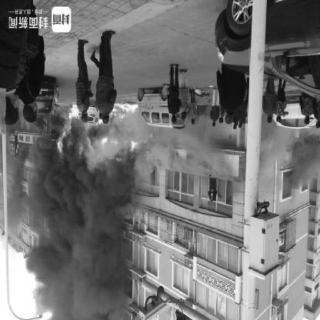Fire: (53, 101, 158, 175)
Smoke: (28, 160, 126, 316)
